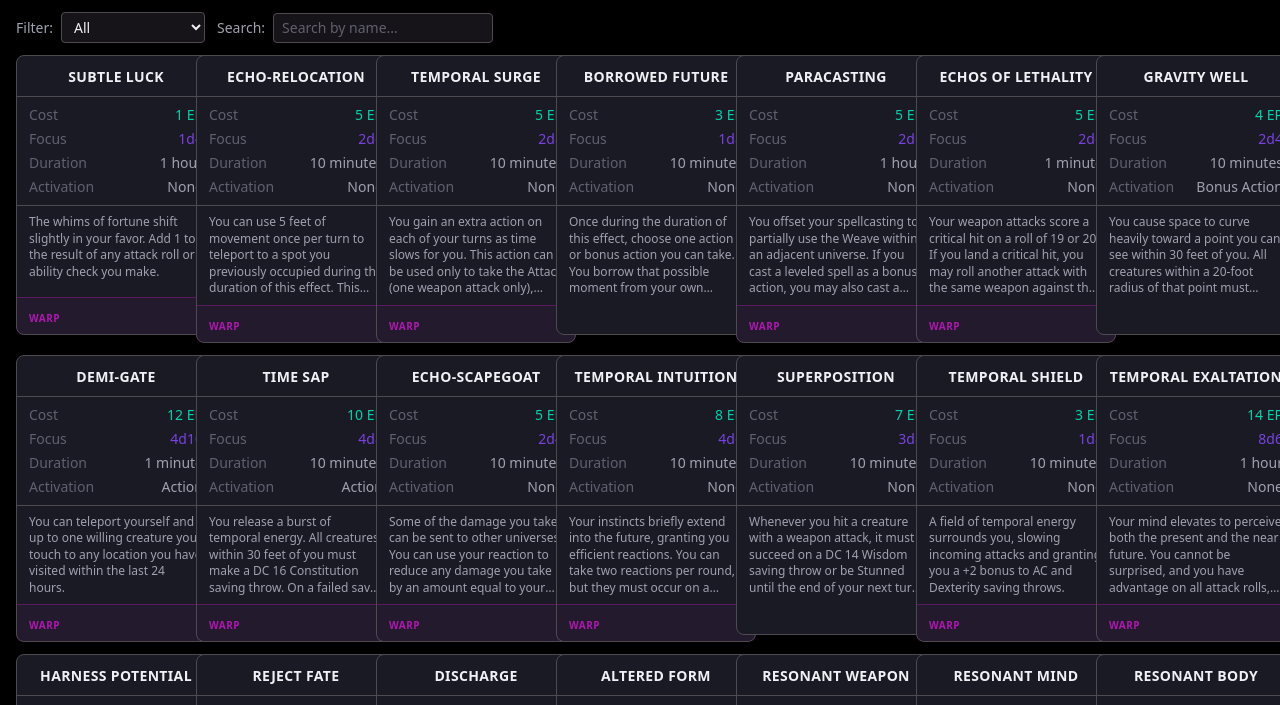
Test: CollectionGrid › search input filters by name (case-insensitive)
Type "subtle" into the field named "Search by name".
click(383, 28); type("subtle")  # box [273,12,493,42]
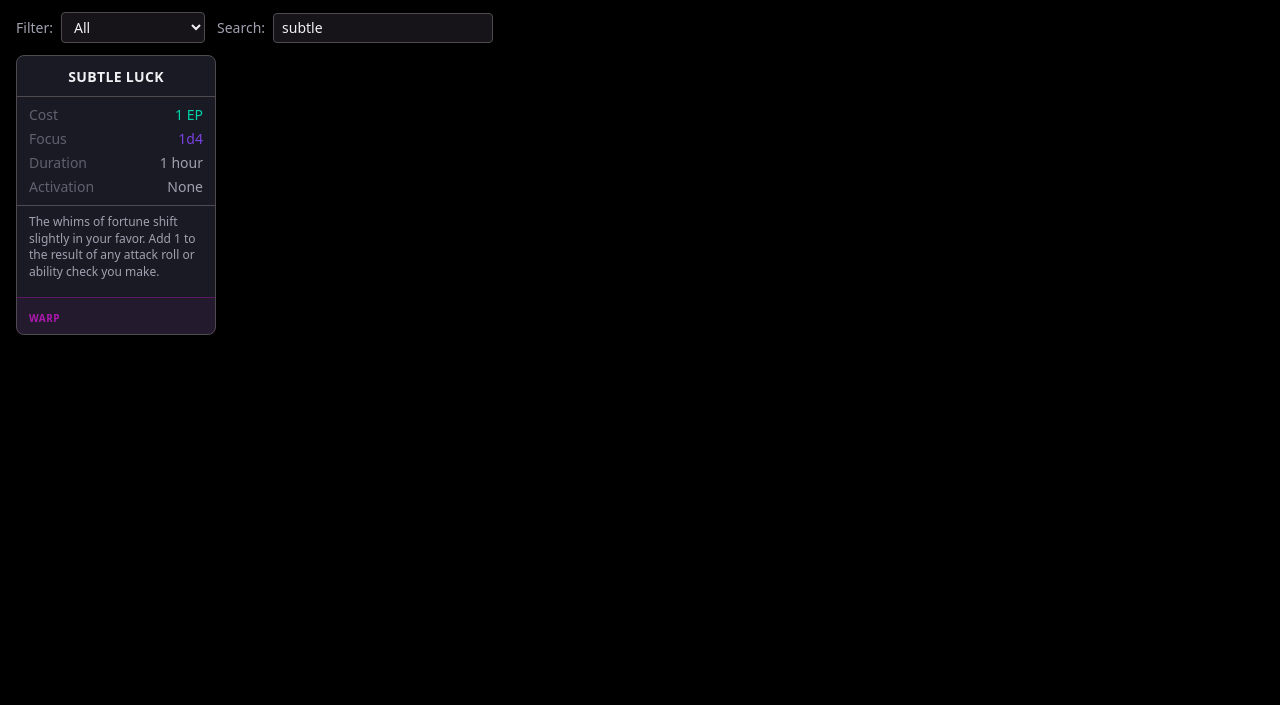
expect the text "Subtle Luck" is shown: met, box [68,67,164,86]
expect the button "Temporal Surge" is gone: met
